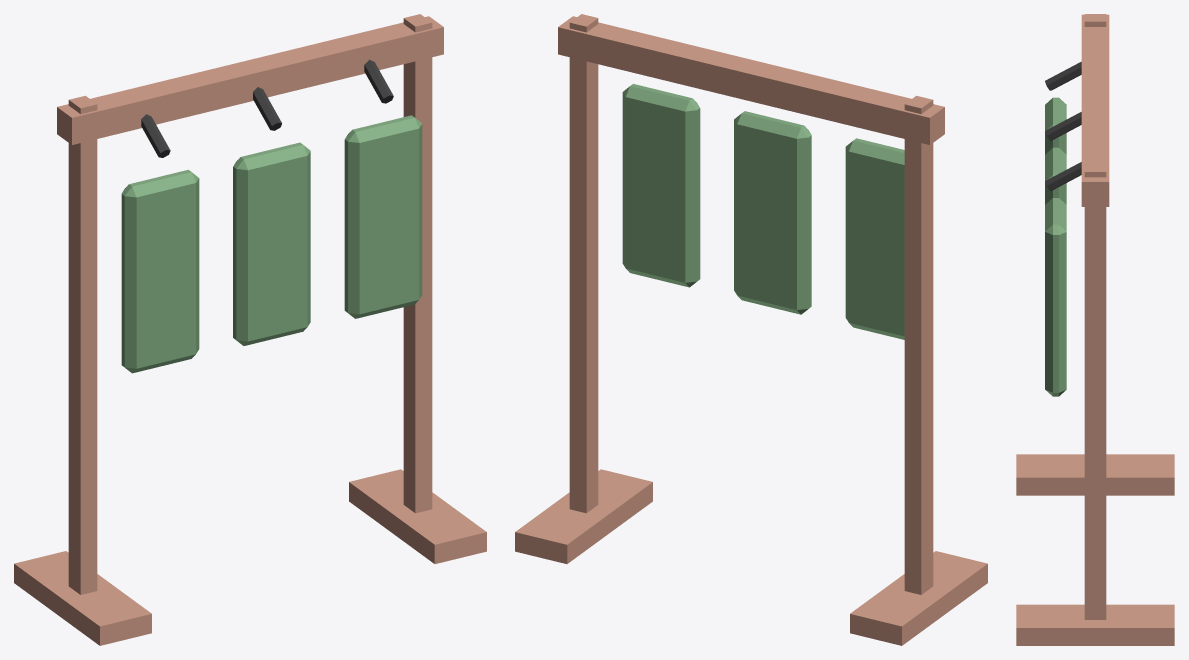
3 views of the same model, side by side, from view 1: azimuth 30°, elevation 25°; view 2: azimuth 150°, elevation 25°; view 3: azimuth 270°, elevation 25° (orthographic). The views are drawn at different scales.
Parts seen in each view (by area): view 1: Coat rack beam, Hanging cloth.002, Hanging cloth, Hanging cloth.001, Coat rack upright, Coat rack upright.001, Coat rack foot.001, Coat rack foot; view 2: Coat rack beam, Hanging cloth.002, Hanging cloth.001, Coat rack upright, Coat rack upright.001, Hanging cloth, Coat rack foot.001, Coat rack foot; view 3: Coat rack upright.001, Coat rack foot.001, Coat rack foot, Coat rack beam, Hanging cloth.002, Hanging cloth, Hanging cloth.001, Hook.002, Hook, Hook.001, Coat rack upright.
Part boxes in pixels (<box>): Coat rack beam: <box>57,16,443,144</box>; Hanging cloth.002: <box>344,115,422,318</box>; Hanging cloth: <box>121,169,199,373</box>; Hanging cloth.001: <box>233,142,310,345</box>; Coat rack upright: <box>68,95,97,594</box>; Coat rack upright.001: <box>403,14,432,513</box>; Coat rack foot.001: <box>349,469,486,563</box>; Coat rack foot: <box>14,551,151,645</box>; Coat rack beam: <box>558,16,944,144</box>; Hanging cloth.002: <box>622,84,700,287</box>; Hanging cloth.001: <box>734,111,811,314</box>; Coat rack upright: <box>904,95,933,594</box>; Coat rack upright.001: <box>569,14,598,513</box>; Hanging cloth: <box>845,138,904,339</box>; Coat rack foot.001: <box>515,469,652,563</box>; Coat rack foot: <box>850,551,987,645</box>; Coat rack upright.001: <box>1084,164,1106,619</box>; Coat rack foot.001: <box>1016,604,1174,645</box>; Coat rack foot: <box>1016,454,1174,495</box>; Coat rack beam: <box>1081,14,1109,206</box>; Hanging cloth.002: <box>1045,198,1066,396</box>; Hanging cloth: <box>1045,97,1066,154</box>; Hanging cloth.001: <box>1045,147,1066,204</box>; Hook.002: <box>1045,162,1081,190</box>; Hook: <box>1045,61,1081,90</box>; Hook.001: <box>1045,112,1081,140</box>; Coat rack upright: <box>1084,14,1106,26</box>.
Bounding box in the file's own units: 1.04 × 1.3 × 0.4.
1 material, 1 textured.
